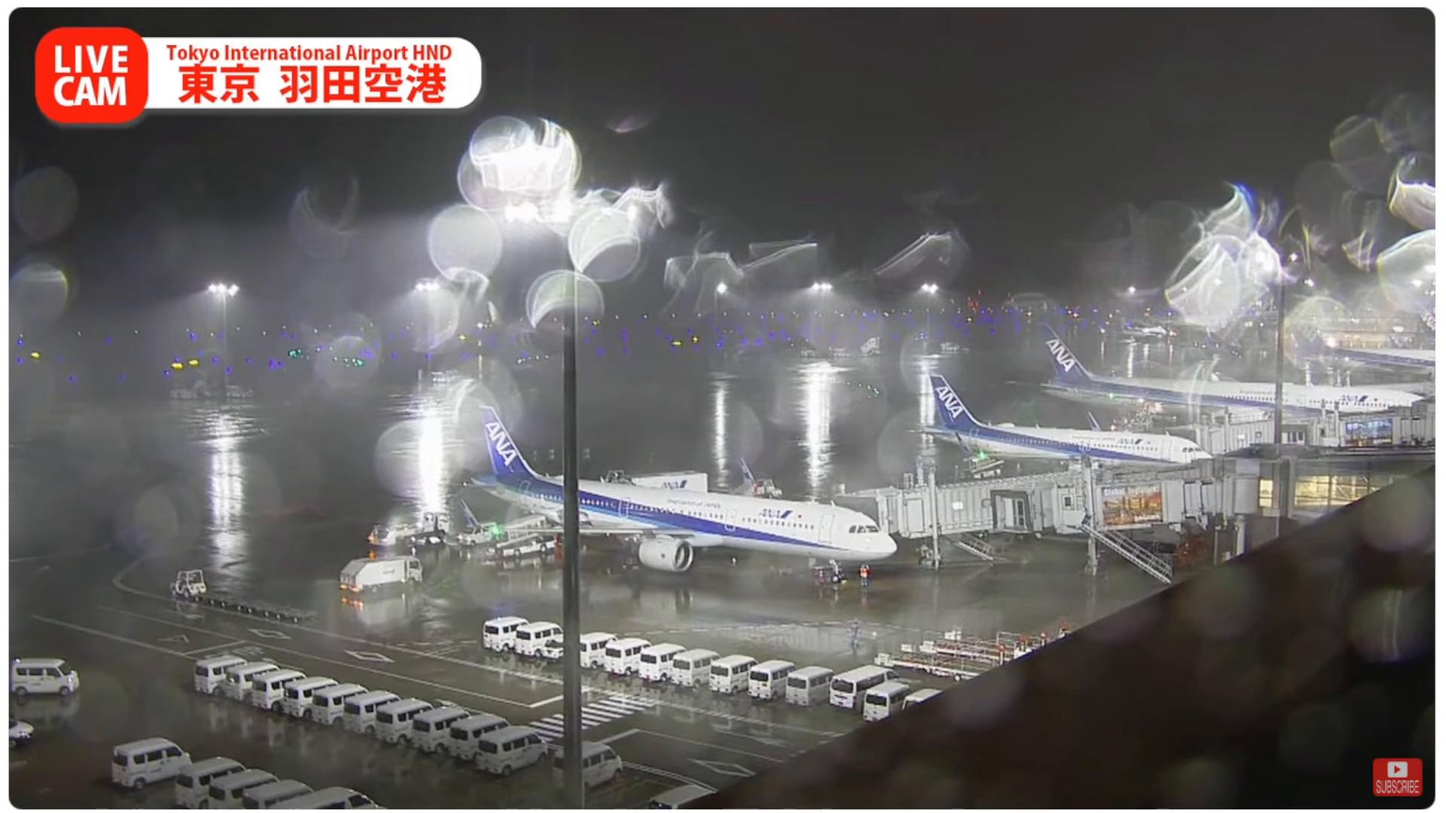Aerobridge: (839, 461, 1195, 539), (988, 472, 1227, 537)
Airplane: (461, 406, 899, 585)
Baggage truck: (335, 555, 424, 595)
Catering: (622, 469, 711, 491)
Dolly: (189, 591, 322, 625)
JCPL: (874, 647, 1012, 682), (913, 631, 1059, 660)
Skyloader: (482, 523, 564, 560)
Tractor: (168, 568, 208, 600), (753, 480, 779, 497)
Window: (1291, 475, 1415, 508)
